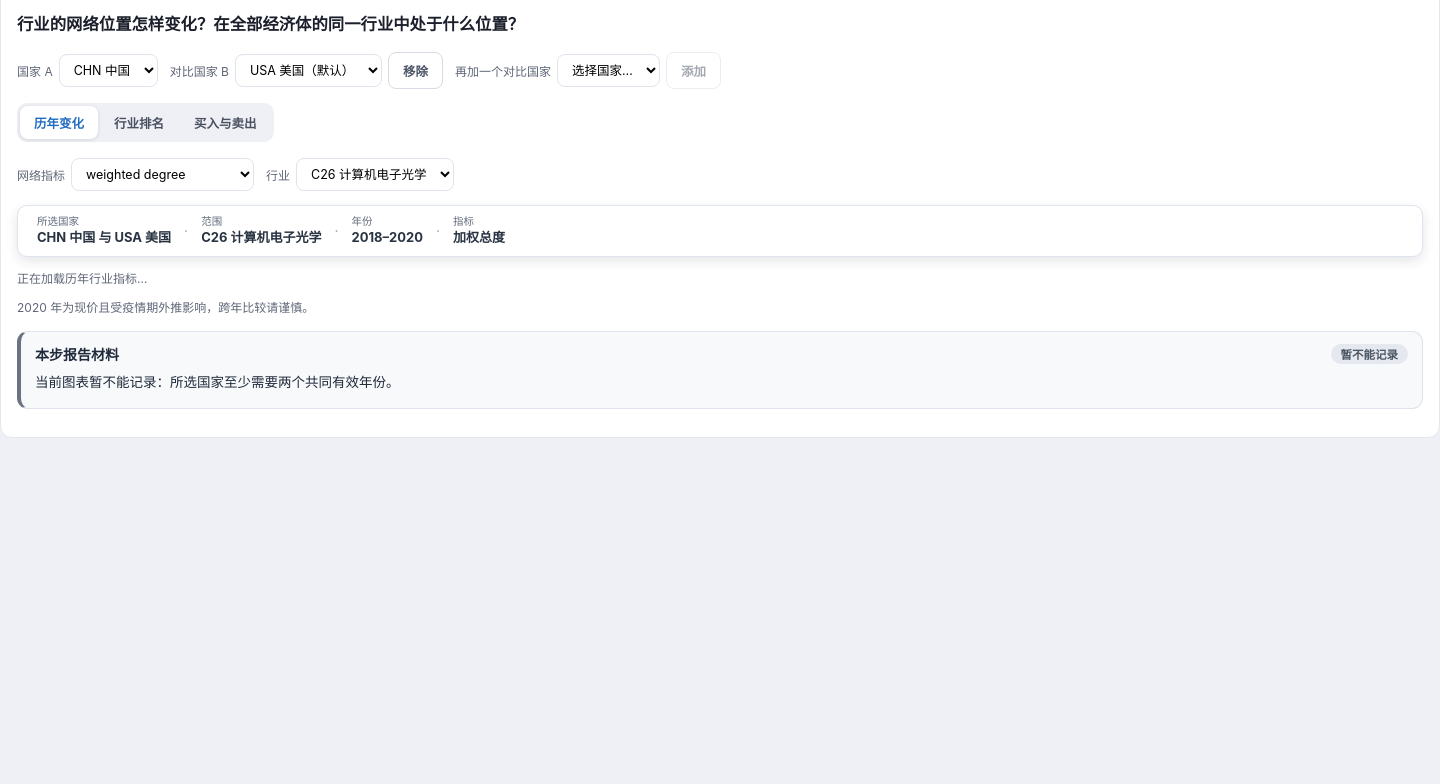
Test: renders gaps without joining them, records the complete two-country view only when asked, and never offers a pending request
Select "betweenesscentrality" in the dropdown labelled "网络指标" at [162, 174], box [71,158,254,191]
(page scrolled)
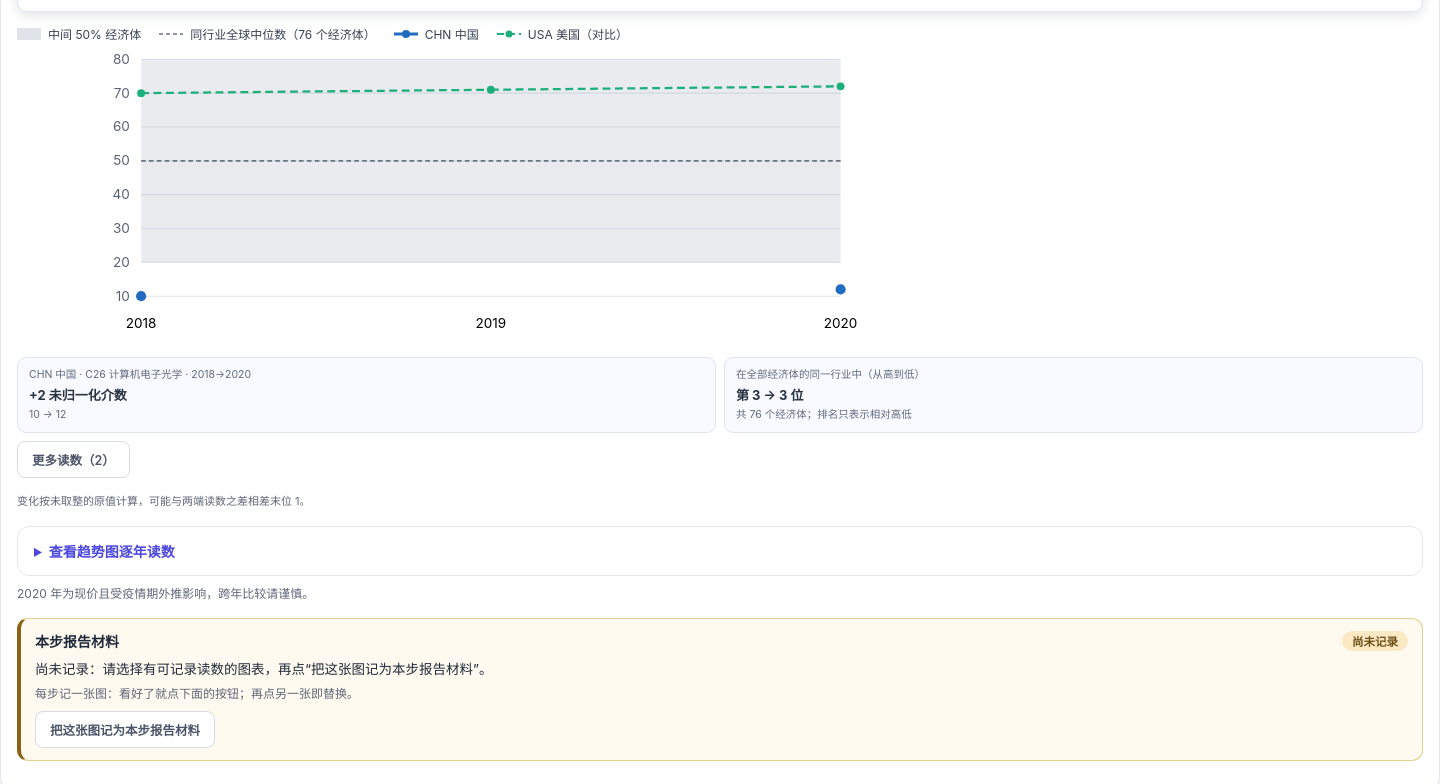
Now the picture is shown, box [17,48,897,348]
Now the element named "趋势读数" shows "在全部经济体的同一行业中", box [736,368,862,381]
Click the button "把这张图记为本步报告材料" at [125, 730], box [35,711,215,748]
(page scrolled)
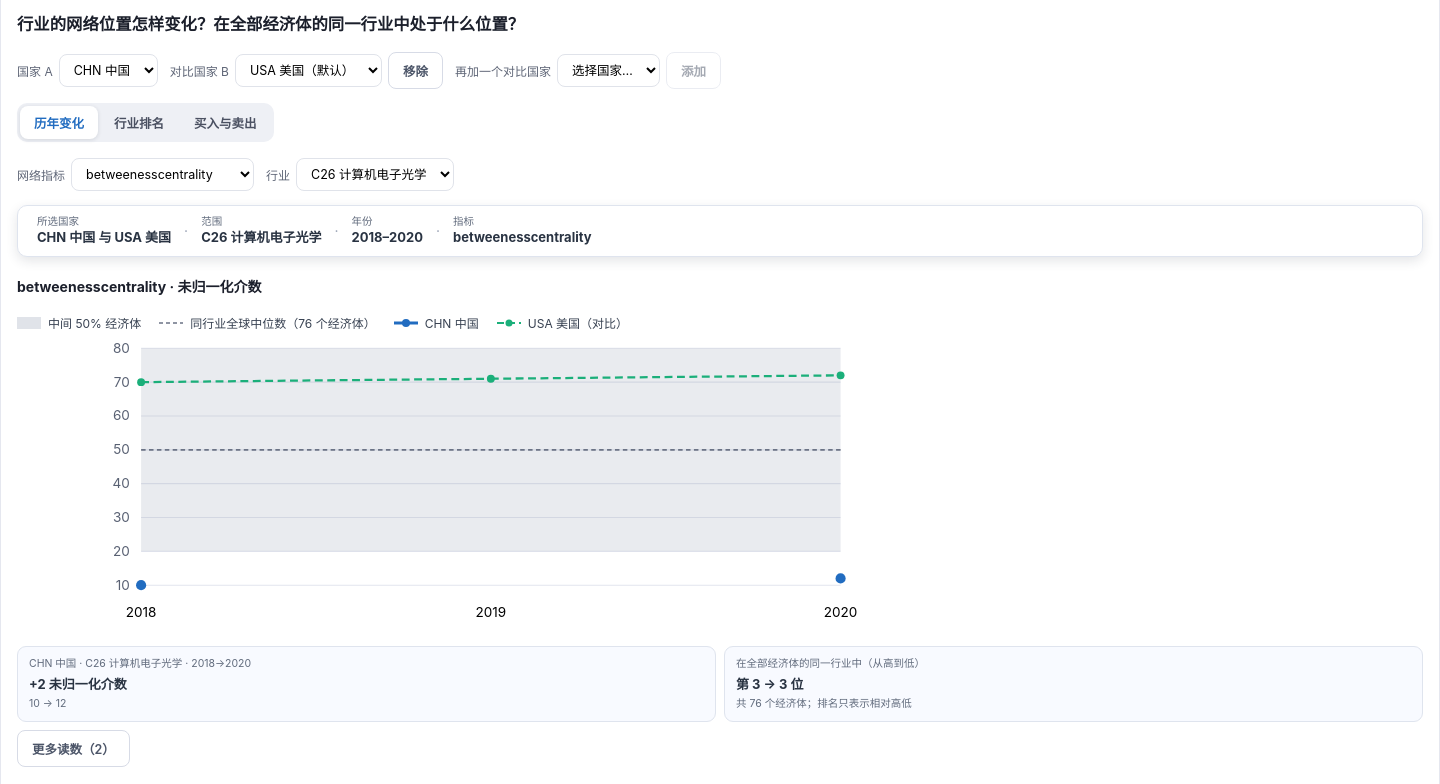
# While Germany's 2020 request is pending the chart cannot be recorded.
Select "DEU 德国" in the dropdown labelled "对比国家 B" at [308, 70], box [235,54,382,87]
(page scrolled)
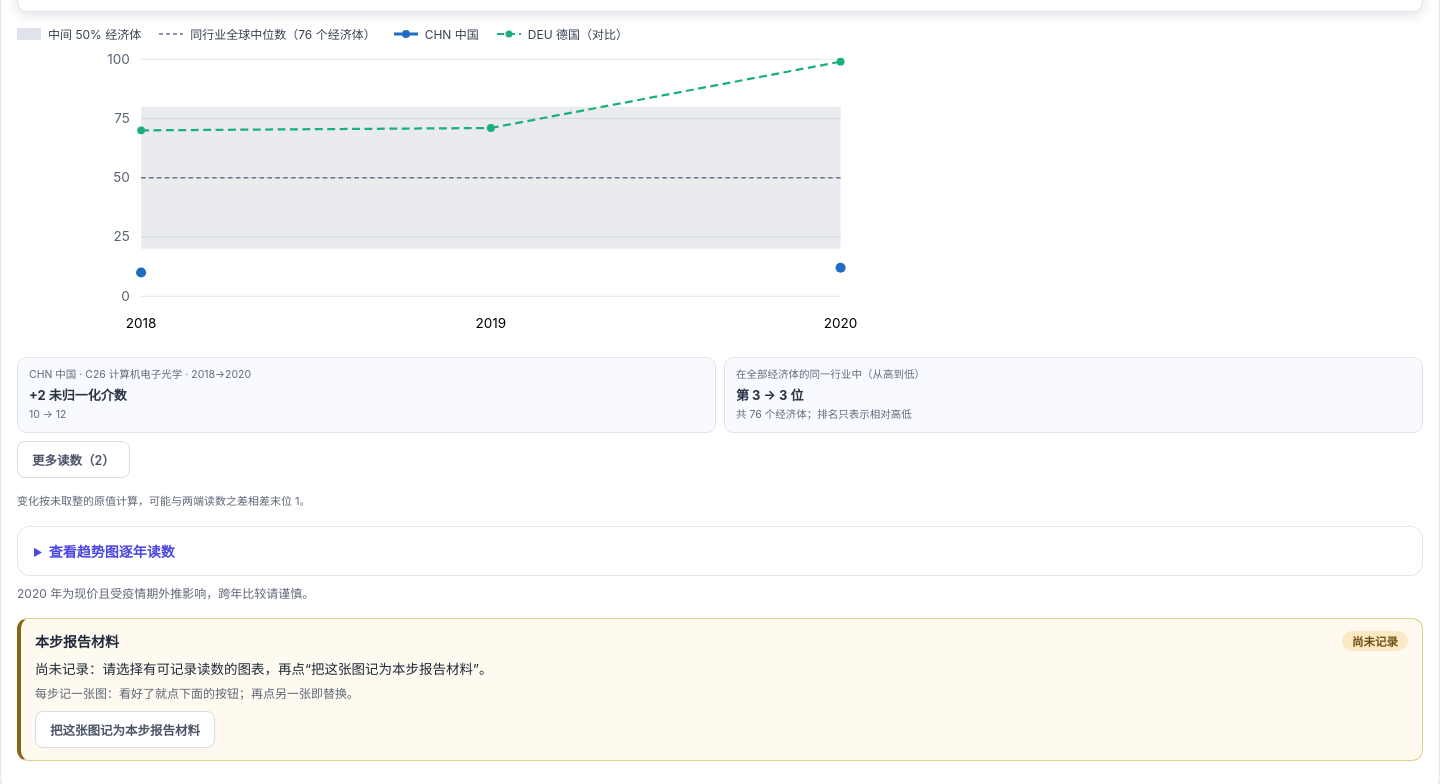
Click the button "把这张图记为本步报告材料" at [125, 730], box [35,711,215,748]
(page scrolled)
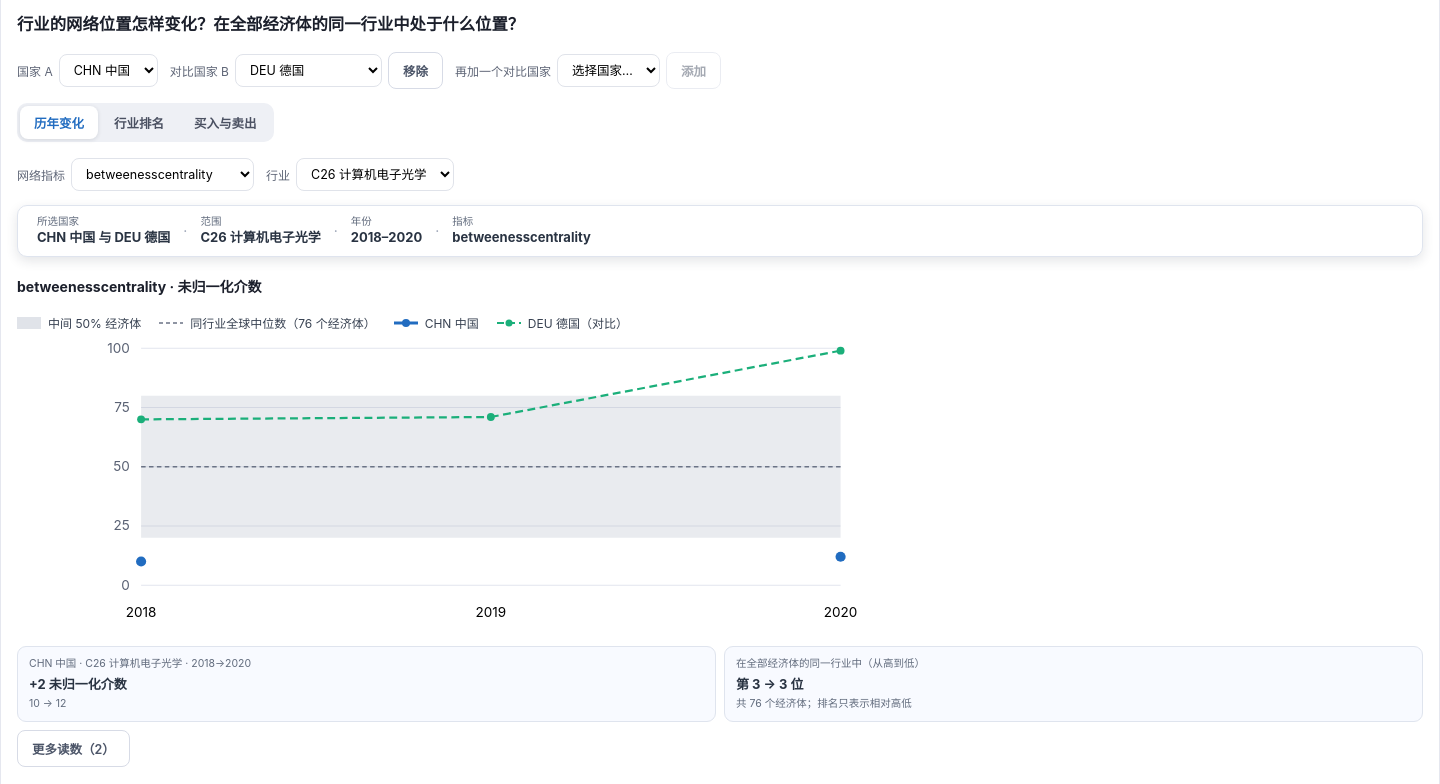
# An industry without readings offers nothing to record.
Select "C27 电气设备" in the dropdown labelled "行业" at [375, 174], box [296,158,454,191]
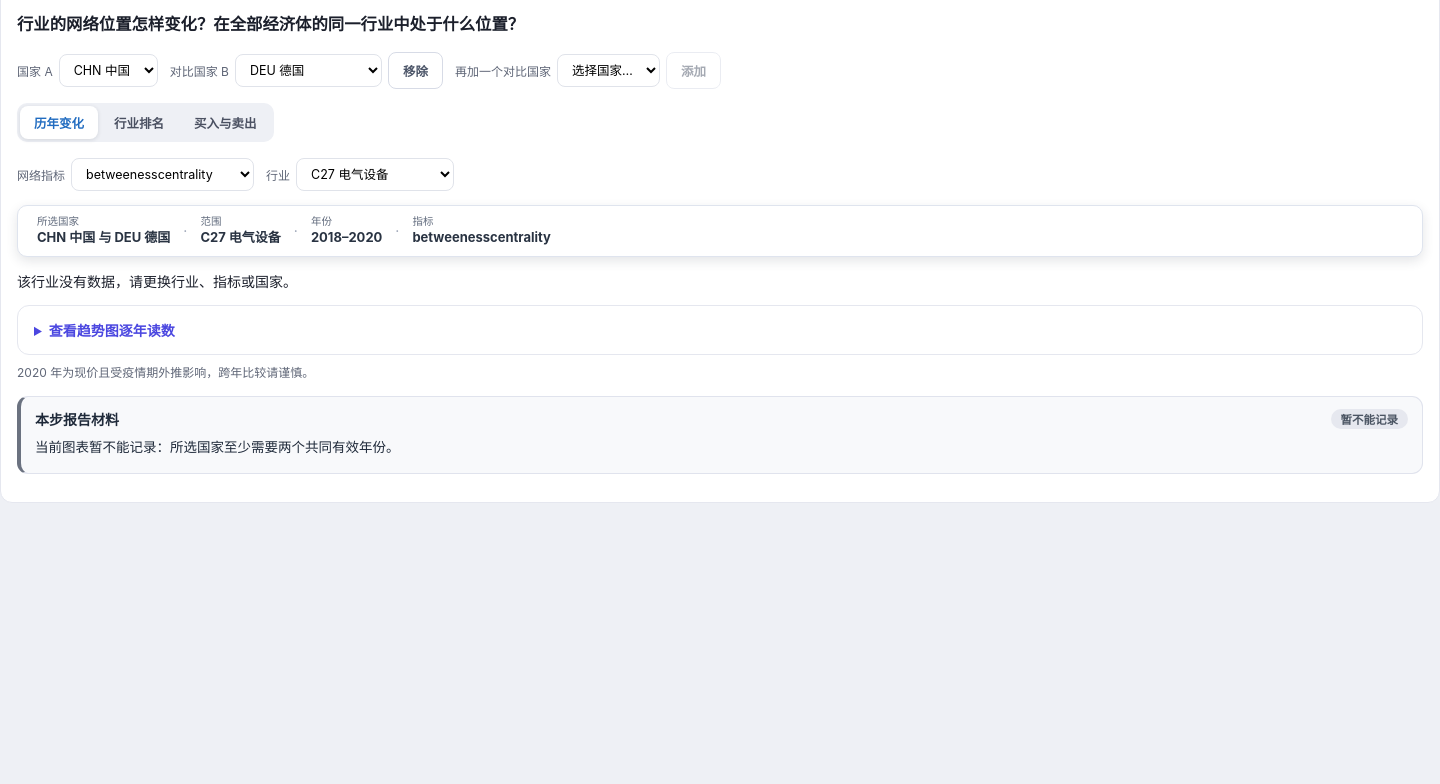
Now the text "该行业没有数据，请更换行业、指标或国家。" is shown, box [17,273,297,290]
Now the message "当前图表暂不能记录：所选国家至少需要两个共同有效年份。" is shown, box [35,439,400,455]
Now the text "暂不能记录" is shown, box [1330,409,1408,429]
